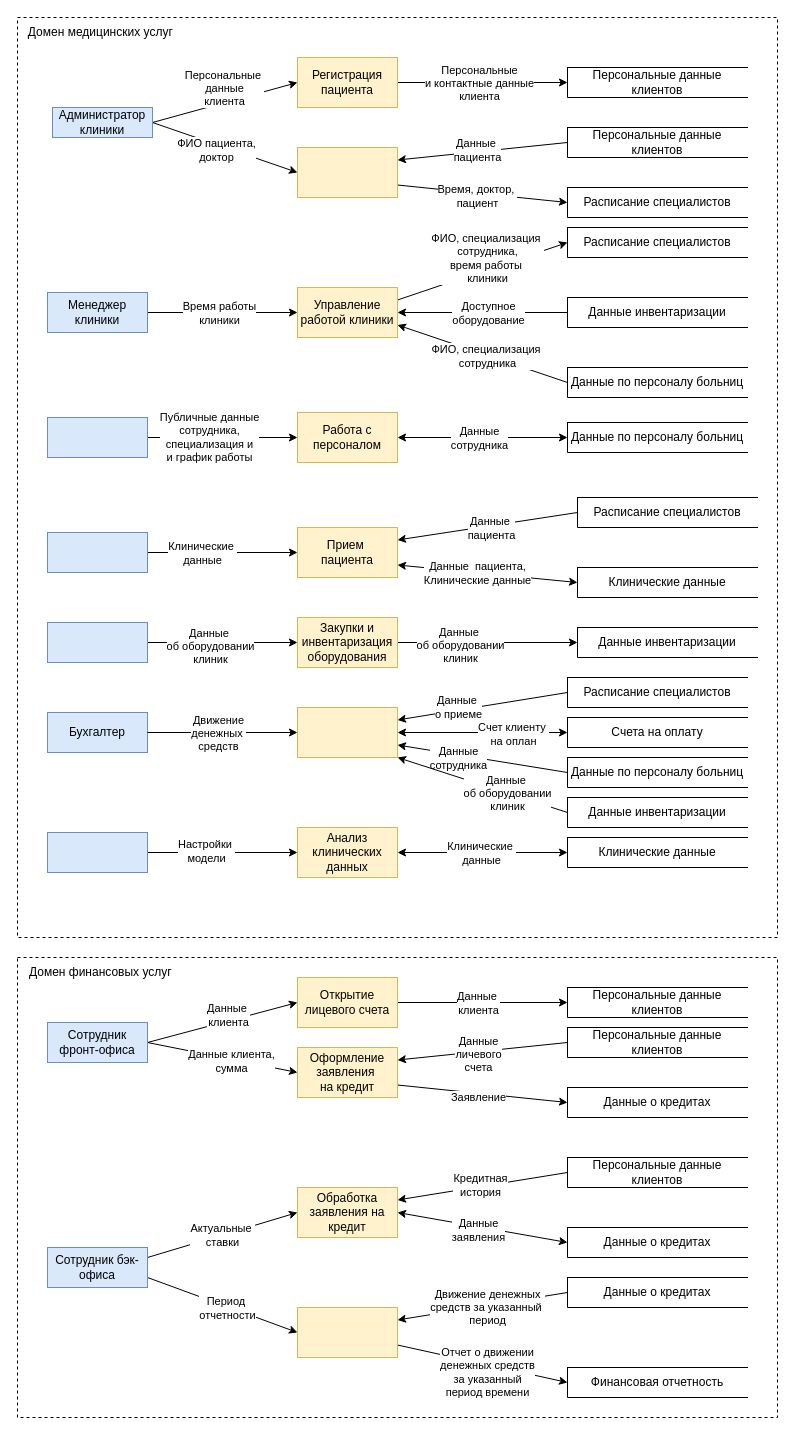
Some shapes in this 795 by 1435 pixel diagram are drawn without their labels. The shapes that lost their labels are listed below. From the top down, each one's box as (x1, y1, x2, y2) in pixels, then its label:
(296, 146, 398, 198): Запись на прием
(46, 416, 148, 458): Сотрудник кадров
(46, 532, 148, 572): Медицинский сотрудник
(46, 622, 148, 662): Сотрудник АХО
(296, 706, 398, 758): Оплата приема
(46, 832, 148, 872): Инженер по AI
(296, 1306, 398, 1358): Подготовка отчета
